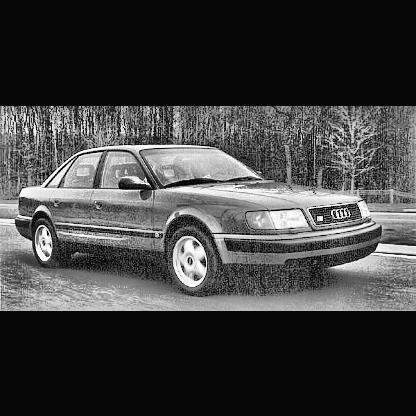Audi 100 Sedan 1994: (16, 146, 385, 299)
